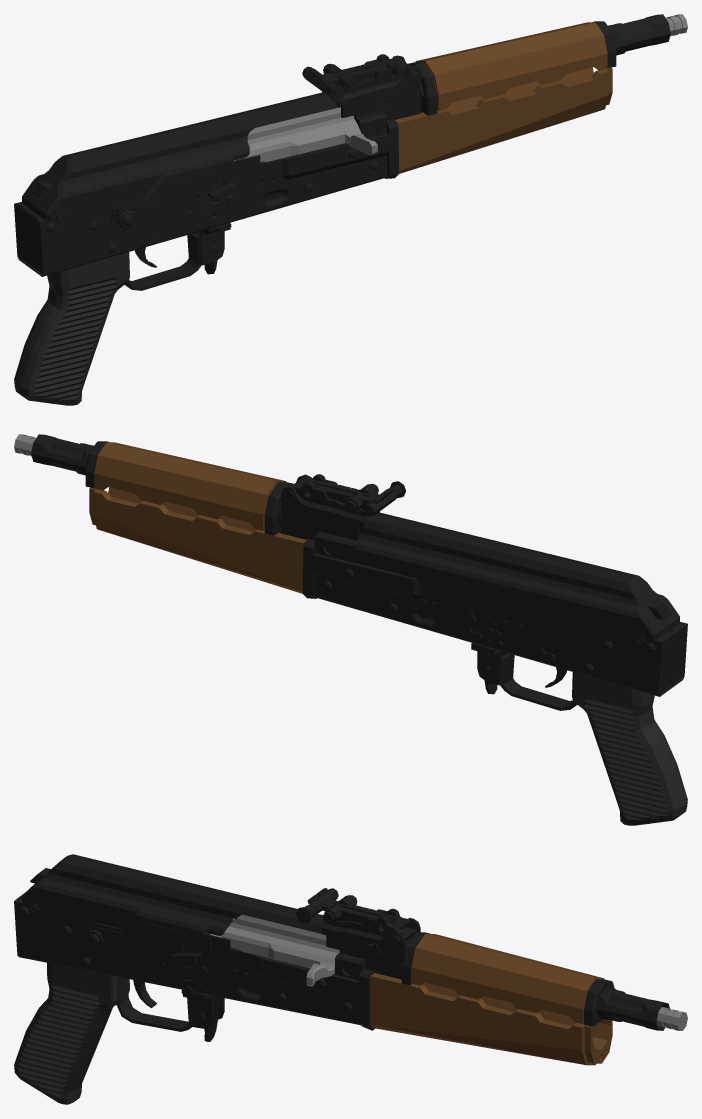
The model's file is zastava_m70_ab2.glb.
3 views of the same model, one above another, from view 1: azimuth 30°, elevation 25°; view 2: azimuth 150°, elevation 25°; view 3: azimuth 330°, elevation 25° (orthographic).
Parts seen in each view (by area): view 1: m70b2 receiver_12 (×2), m70b2 handguard_13 (×2), m70b2 dust cover_11, m70b2 grip_14, m70b2 bolt_5, m70b2 selector_8; view 2: m70b2 receiver_12 (×2), m70b2 handguard_13 (×2), m70b2 dust cover_11, m70b2 grip_14; view 3: m70b2 receiver_12, m70b2 handguard_13 (×2), m70b2 dust cover_11, m70b2 grip_14, m70b2 bolt_5, m70b2 selector_8, m70b2 mag release_6.
Boxes of the visible parts, x1,y1,x2,y2 form: m70b2 receiver_12 (×2): (14, 14, 670, 290); m70b2 handguard_13 (×2): (385, 22, 612, 178); m70b2 dust cover_11: (22, 92, 337, 220); m70b2 grip_14: (14, 252, 129, 405); m70b2 bolt_5: (233, 14, 687, 162); m70b2 selector_8: (110, 155, 260, 232); m70b2 receiver_12 (×2): (31, 434, 687, 710); m70b2 handguard_13 (×2): (89, 442, 316, 598); m70b2 dust cover_11: (354, 512, 679, 640); m70b2 grip_14: (572, 672, 687, 825); m70b2 receiver_12: (14, 868, 669, 1031); m70b2 handguard_13 (×2): (359, 933, 612, 1065); m70b2 dust cover_11: (22, 854, 338, 935); m70b2 grip_14: (14, 963, 129, 1104); m70b2 bolt_5: (210, 914, 687, 1030); m70b2 selector_8: (83, 918, 230, 958); m70b2 mag release_6: (198, 996, 221, 1041).
Bounding box in the file's own units: 4.96 × 1.92 × 0.6379.
